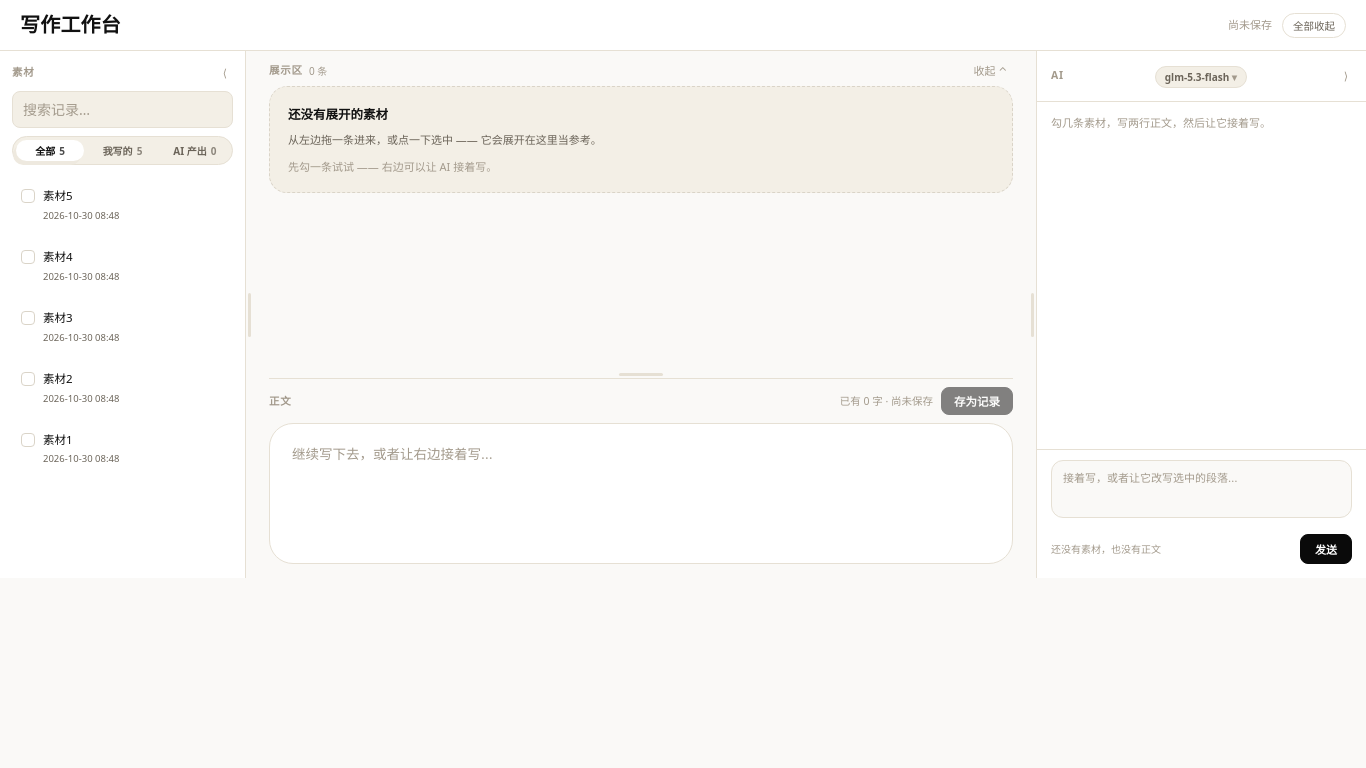
Test: 素材上限 4 条 › 勾第 5 条 → 提示「最多 4 条」，卡片仍是 4 张，第 5 条不勾上
What coordinates should you click on to do the following:
click the button "素材1 2026-10-30 08:48"
I would click on:
 (122, 448)
Its box is [10,421,235,475].
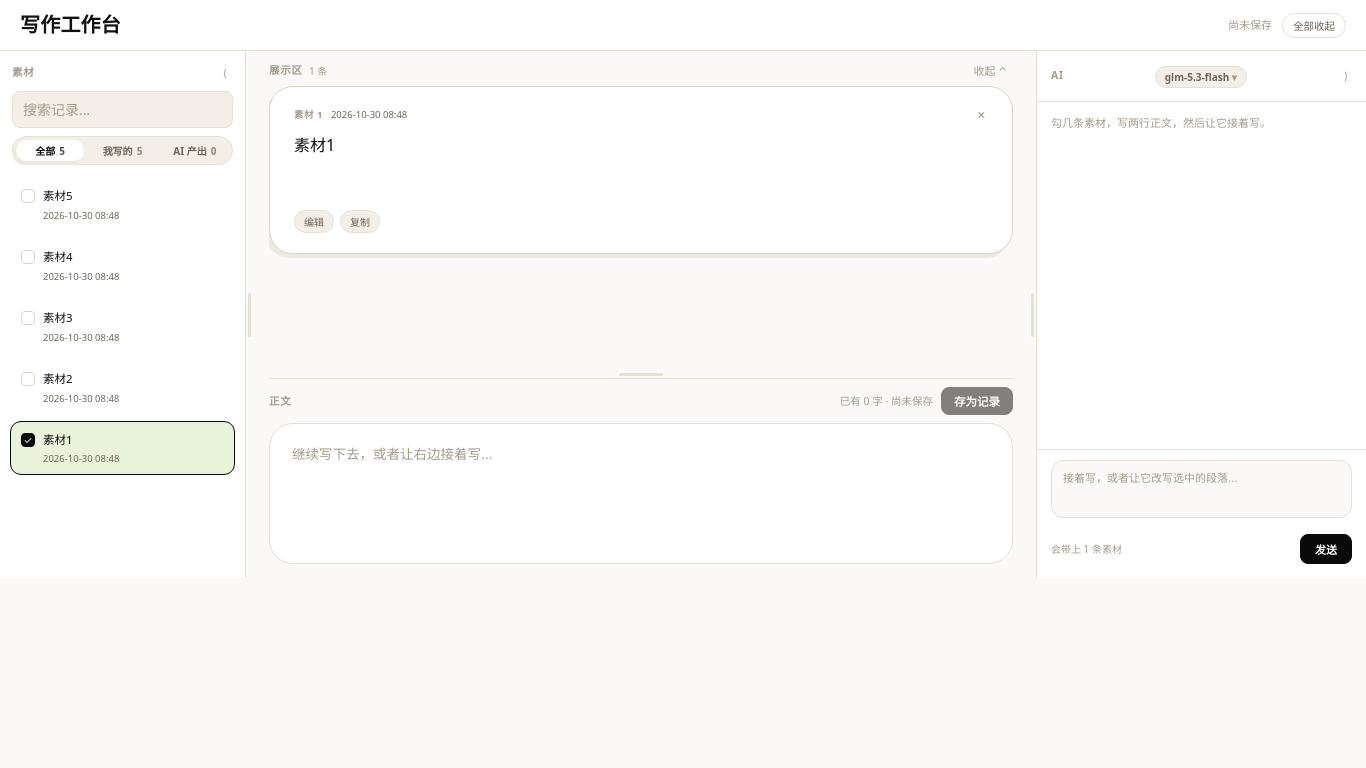
What coordinates should you click on to do the following:
click the button "素材2 2026-10-30 08:48"
I would click on:
 (122, 387)
Its box is [10,360,235,415].
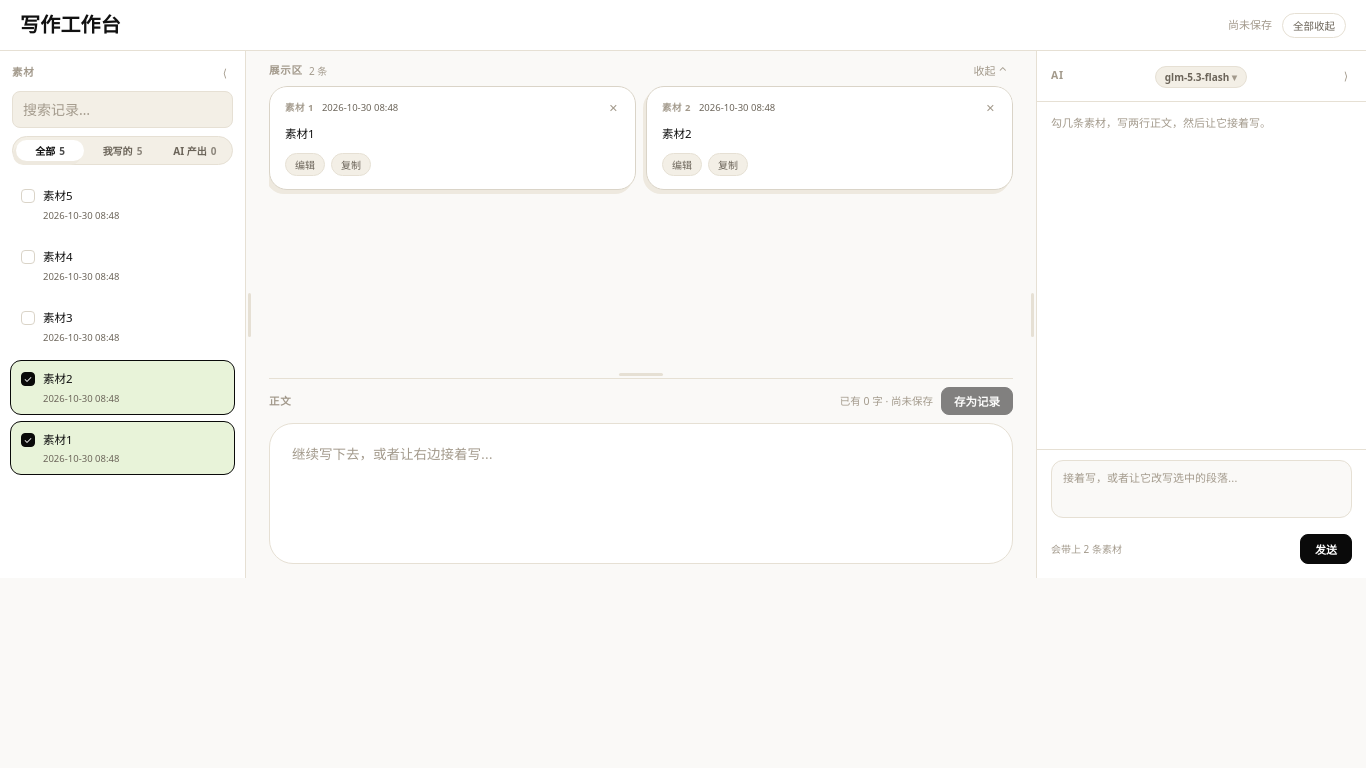
What coordinates should you click on to do the following:
click the button "素材3 2026-10-30 08:48"
I would click on:
 (122, 326)
Its box is [10,299,235,354].
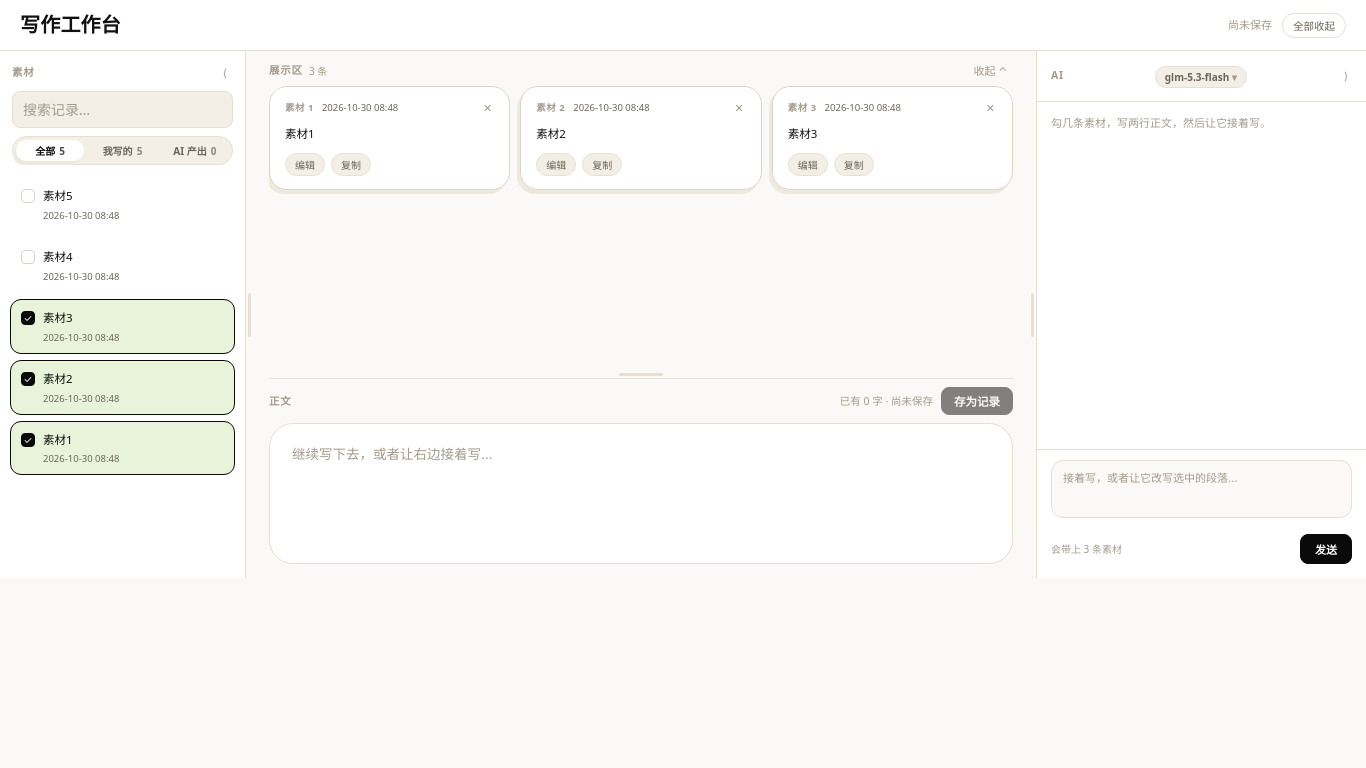
What coordinates should you click on to do the following:
click the button "素材4 2026-10-30 08:48"
I would click on:
 (122, 266)
Its box is [10,238,235,293].
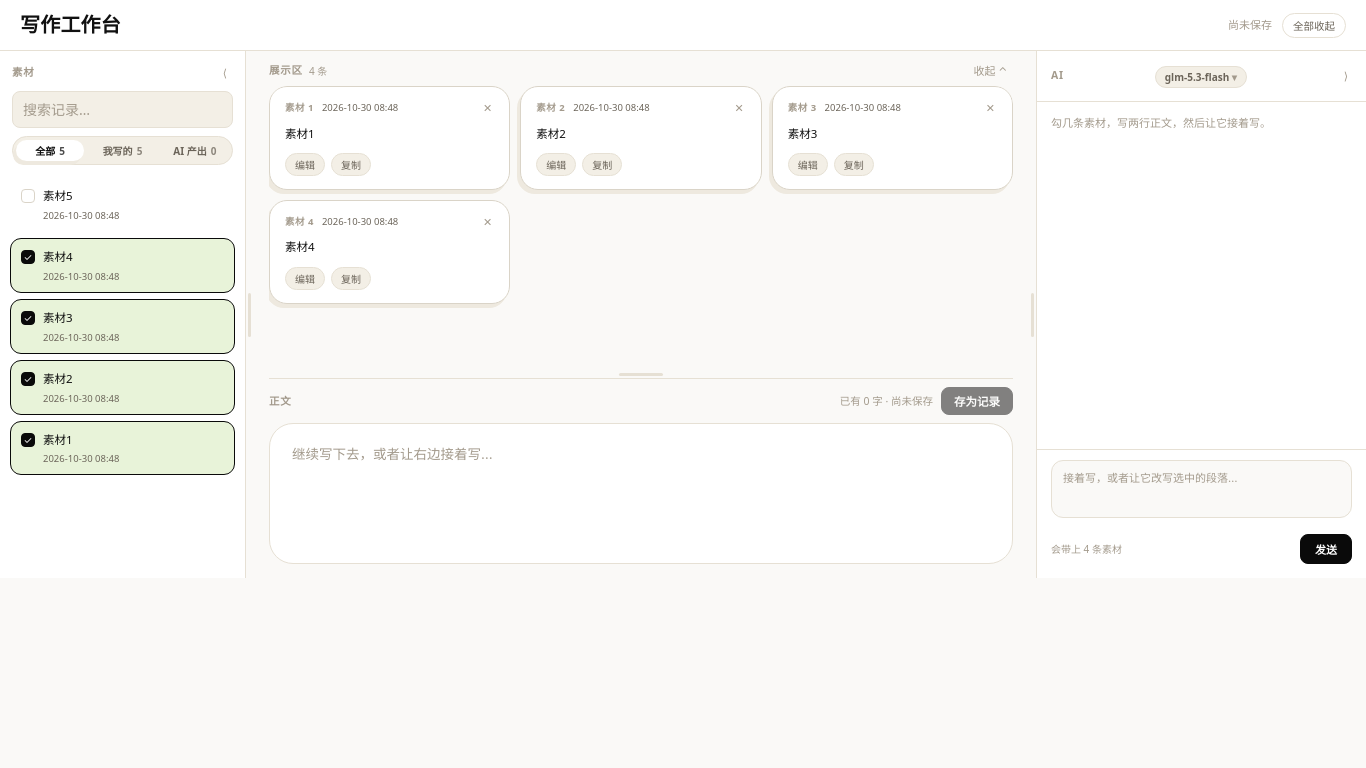
What coordinates should you click on to do the following:
click the button "素材5 2026-10-30 08:48"
I would click on:
 (122, 205)
Its box is [10,177,235,232].
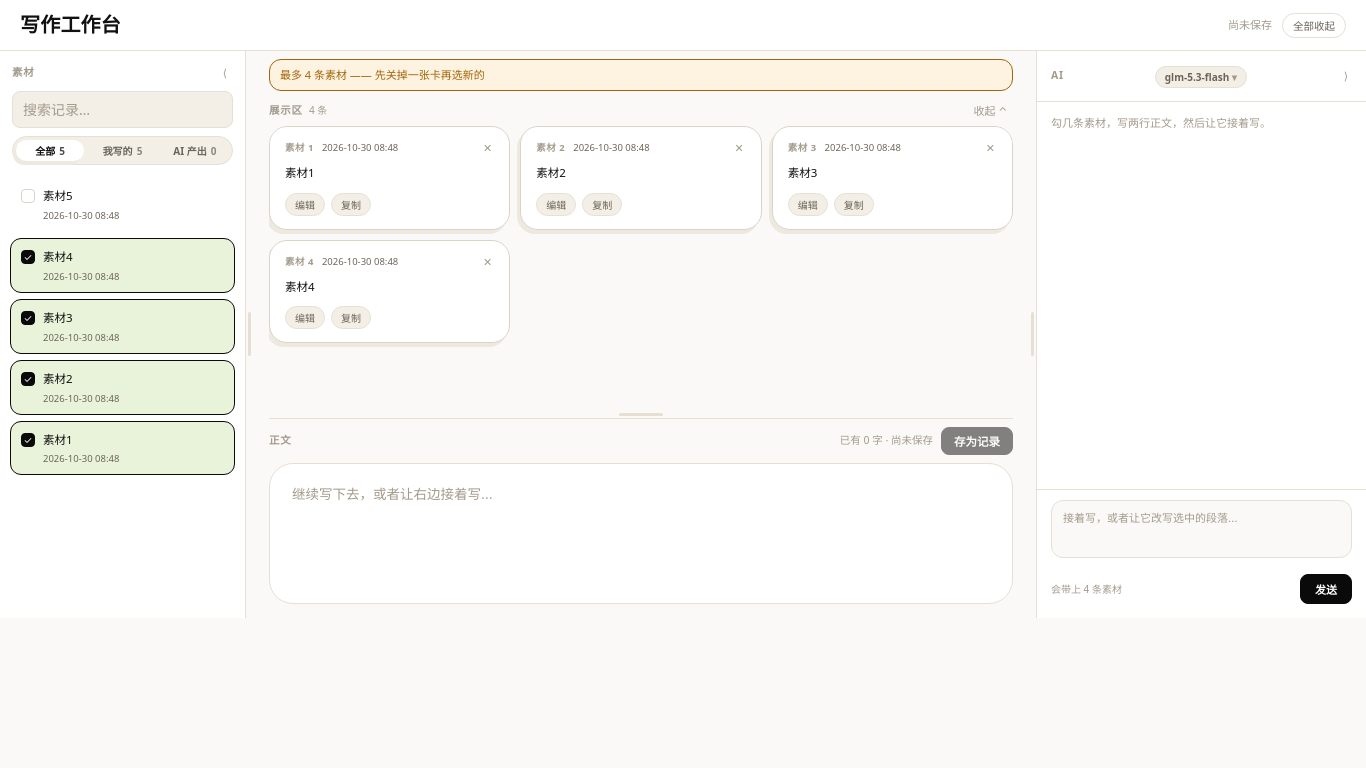
Expected: the text "最多 4 条" is shown, [280,67,485,82]
